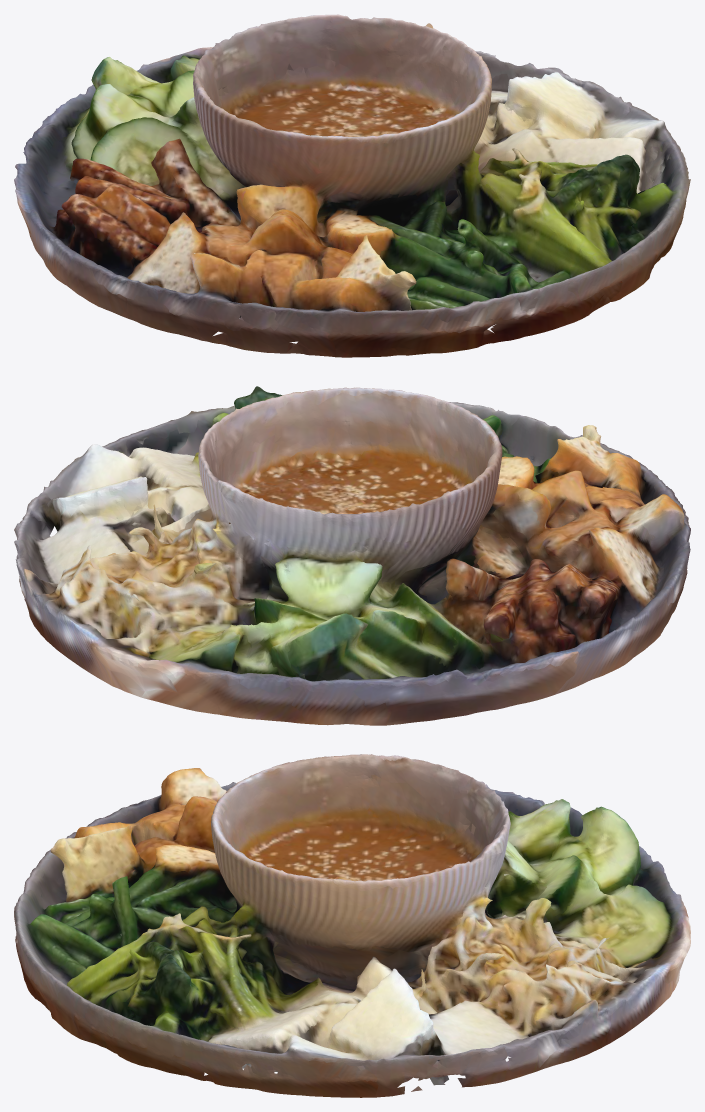
Rendered from gado-gado.glb.
3 renders of one model, top to bottom at view 1: azimuth 30°, elevation 25°; view 2: azimuth 150°, elevation 25°; view 3: azimuth 270°, elevation 25°, orthographic.
Parts seen in each view (by area): view 1: mesh_main_0 (×2); view 2: mesh_main_0 (×2); view 3: mesh_main_0 (×3).
Boxes of the visible parts, x1,y1,x2,y2 form: mesh_main_0 (×2): (14, 14, 690, 357); mesh_main_0 (×2): (14, 386, 690, 725); mesh_main_0 (×3): (14, 754, 690, 1097).
Size of the model in its own units: 0.2672 by 0.063 by 0.2715.
Materials: 1 (1 with a texture image).
